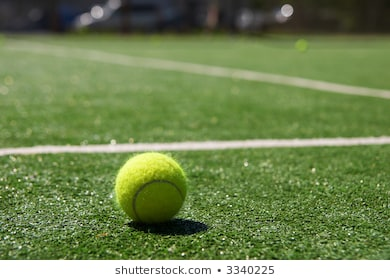tennis_ball: (113, 151, 188, 227)
